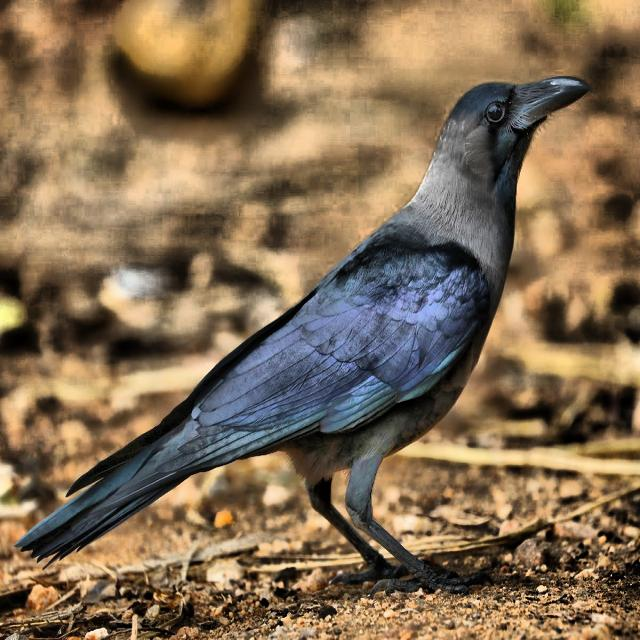crow: (12, 72, 614, 598)
